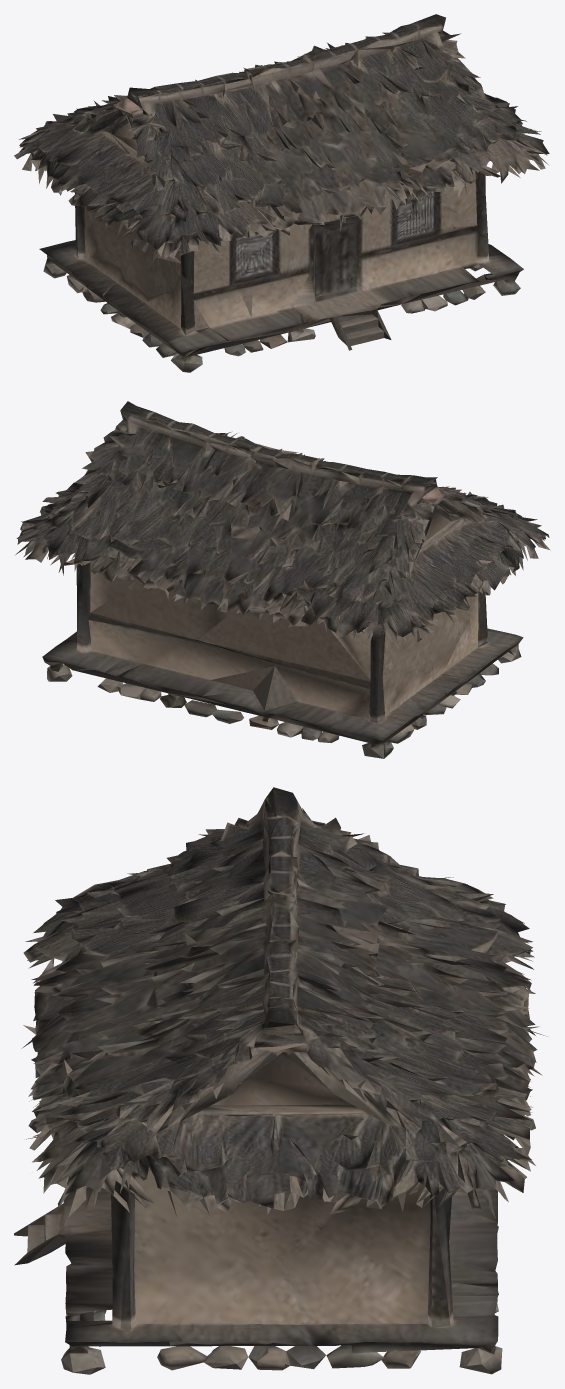
Rendered from choga.glb.
3 renders of one model, top to bottom at view 1: azimuth 30°, elevation 25°; view 2: azimuth 150°, elevation 25°; view 3: azimuth 270°, elevation 25°, orthographic. The views are drawn at different scales.
Visible parts, largest first — view 1: choga; view 2: choga; view 3: choga.
Boxes of the visible parts, x1,y1,x2,y2 form: choga: (14, 14, 549, 372); choga: (15, 401, 550, 758); choga: (14, 787, 547, 1374).
Bounding box in the file's own units: 7.73 × 4 × 5.58.
Materials: 1 (1 with a texture image).
